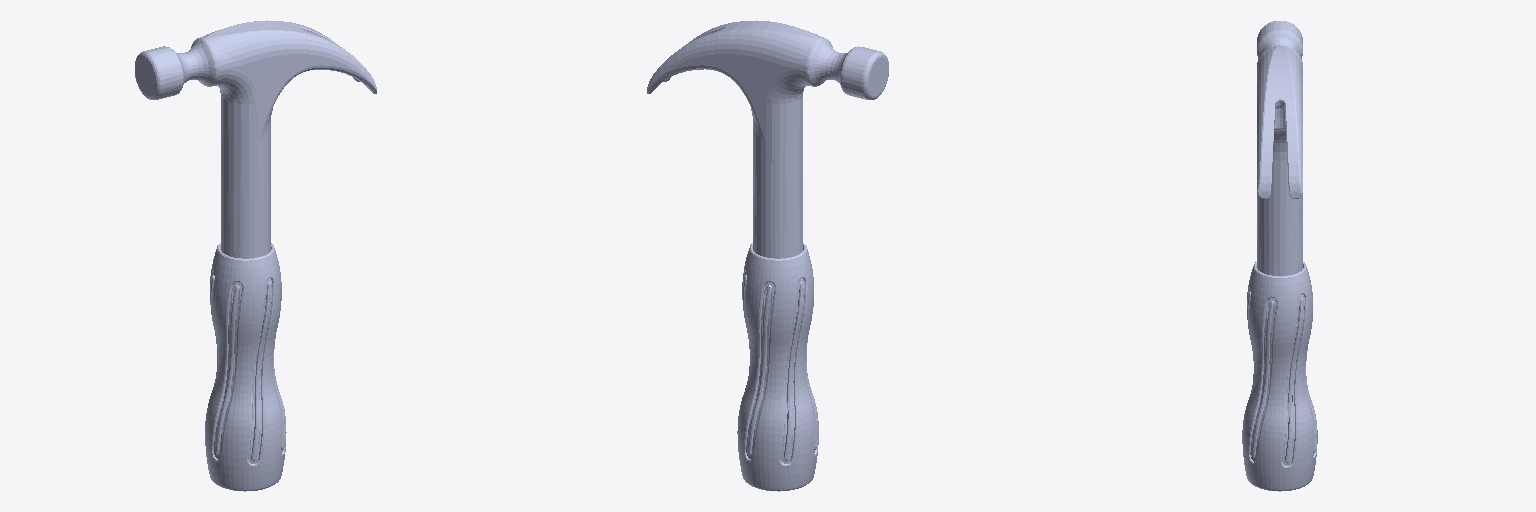
robot.urdf — hammer_part:
<robot
  name="hammer_part">
  <link
    name="hammer_part">
    <inertial>
      <origin
        xyz="-0.000219 6.6213000000012E-06 0.019582"
        rpy="0 0 0" />
      <mass
        value="0.21421" />
      <inertia
        ixx="0.00140424126322997"
        ixy="3.79736704329491E-08"
        ixz="-1.09946292251338E-05"
        iyy="0.00144910369610408"
        iyz="-5.47481408836937E-08"
        izz="7.12508309737544E-05" />
    </inertial>
    <visual>
      <origin
        xyz="0 0 0"
        rpy="0 0 0" />
      <geometry>
        <mesh
          filename="package://hammer_part/meshes/hammer_part.dae" />
      </geometry>
      <material
        name="">
        <color
          rgba="0.79216 0.81961 0.93333 1" />
      </material>
    </visual>
    <collision>
      <origin
        xyz="0 0 0"
        rpy="0 0 0" />
      <geometry>
        <mesh
          filename="package://hammer_part/meshes/hammer_part.dae" />
      </geometry>
    </collision>
  </link>
</robot>

--- Render facts (derived) ---
Views: 3 orthographic renders of the robot side by side, from view 1: azimuth 30°, elevation 25°; view 2: azimuth 150°, elevation 25°; view 3: azimuth 270°, elevation 25°.
Model hammer_part with 1 links and 0 joints (none), rooted at hammer_part, posed every joint at zero.
Visible links, largest first — view 1: hammer_part; view 2: hammer_part; view 3: hammer_part.
Boxes of the visible links, box(x1,y1,x2,y2) form: hammer_part: box(135, 20, 376, 491); hammer_part: box(647, 20, 888, 491); hammer_part: box(1242, 21, 1317, 491).
Size in the robot's own frame: 0.1264 by 0.0404 by 0.247 metres.
1 mesh visuals loaded from 1 distinct referenced files (1 Collada DAE).